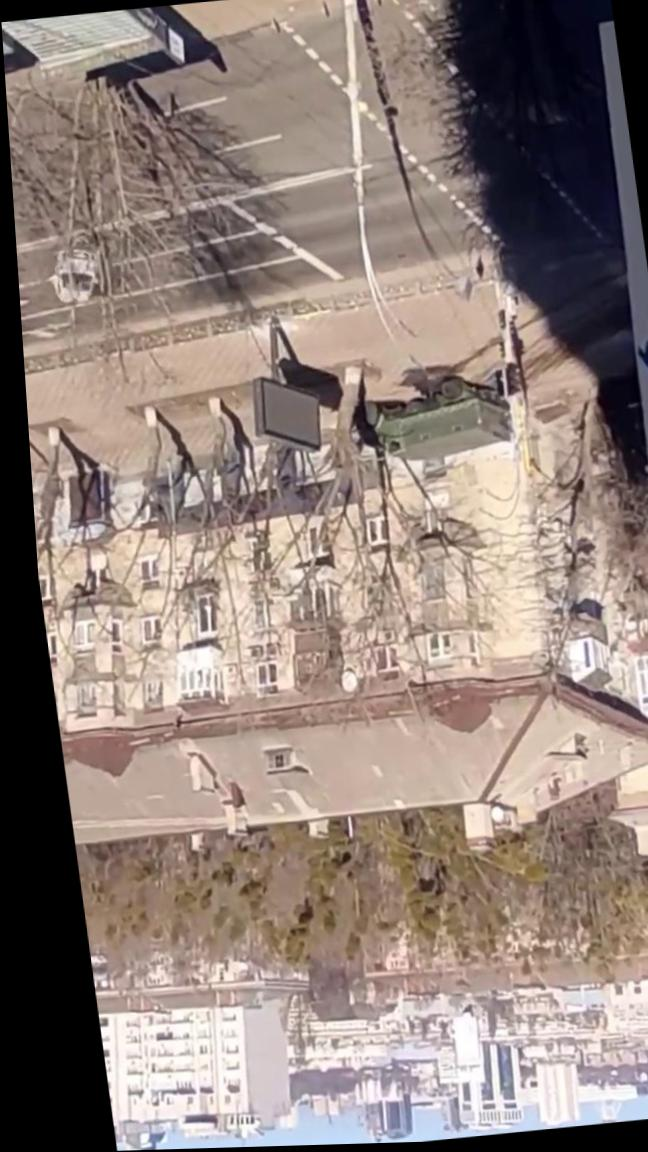car: (47, 244, 102, 303)
truck: (350, 372, 515, 465)
